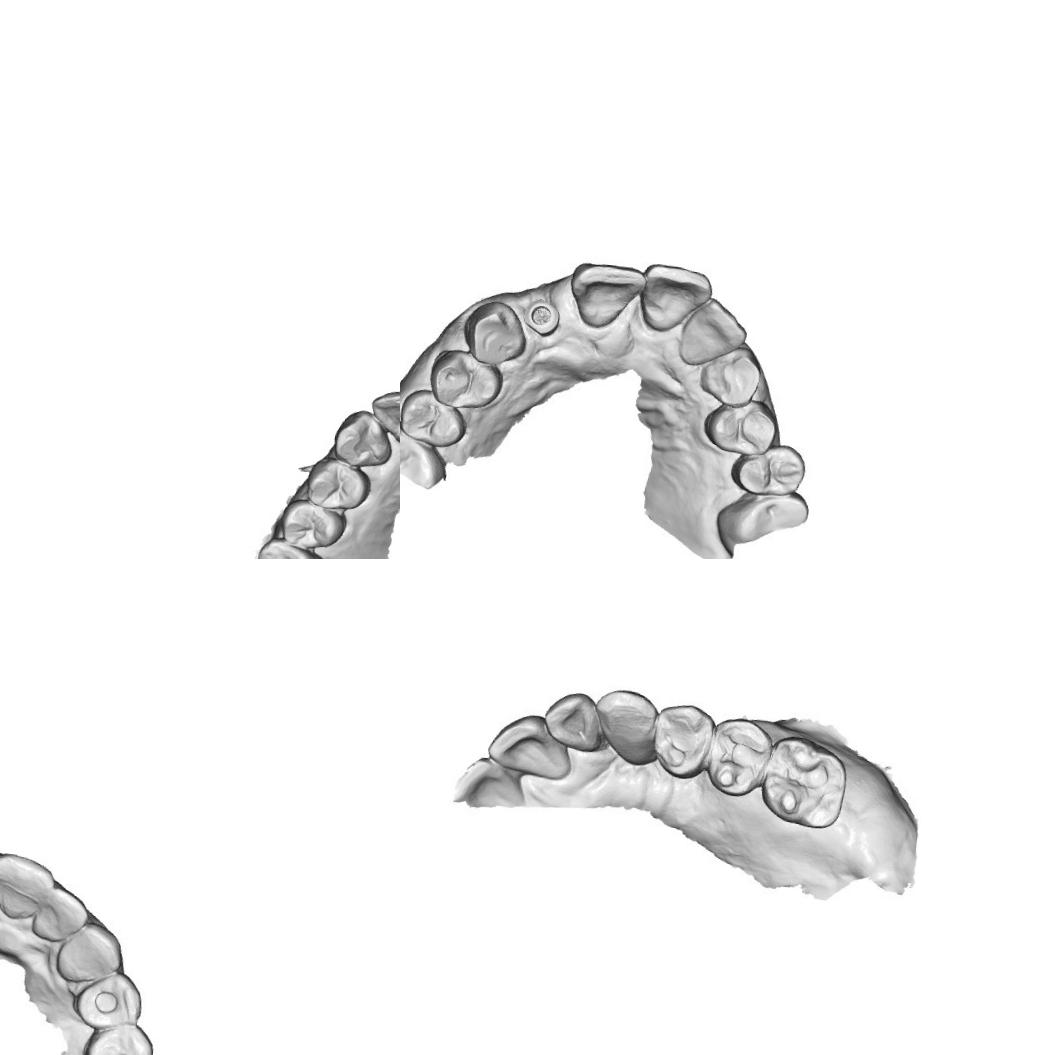canine: (594, 690, 666, 770), (458, 299, 532, 374), (52, 920, 126, 988), (329, 406, 396, 470), (702, 352, 759, 402)
implant: (520, 288, 568, 346)
incisor: (673, 292, 753, 371), (487, 713, 574, 781), (569, 258, 646, 332), (640, 262, 710, 334), (0, 854, 56, 918), (545, 692, 602, 752), (34, 886, 86, 940), (365, 386, 400, 447)
molar: (761, 736, 847, 827), (706, 716, 772, 792), (244, 533, 335, 559)
premolar: (696, 398, 781, 460), (729, 440, 808, 502), (72, 968, 146, 1034), (400, 384, 470, 452), (649, 701, 710, 778), (430, 352, 500, 414), (302, 454, 375, 513), (277, 496, 349, 553), (81, 1019, 157, 1055)
